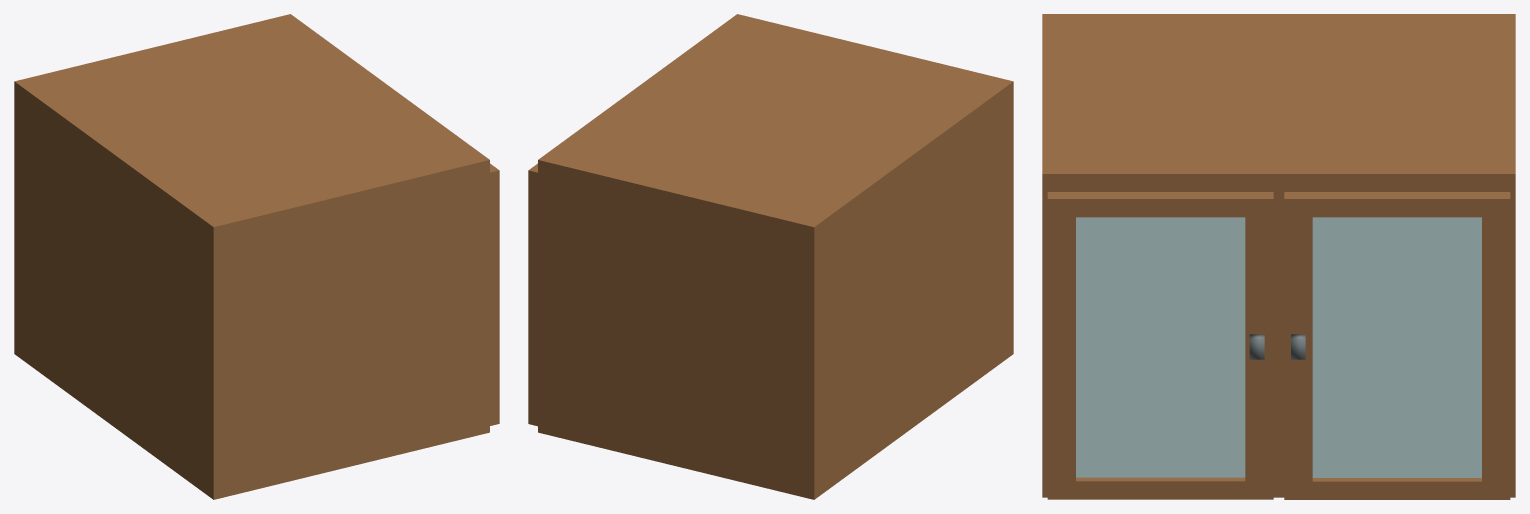
File: Cabinet.fbx
3 views of the same model, side by side, from view 1: azimuth 30°, elevation 25°; view 2: azimuth 150°, elevation 25°; view 3: azimuth 270°, elevation 25° (orthographic). The views are drawn at different scales.
Visible parts, largest first — view 1: Cube.209; view 2: Cube.209; view 3: Cube.209.
Part boxes in pixels (left/top/right/bottom): Cube.209: left=14, top=14, right=499, bottom=499; Cube.209: left=528, top=14, right=1013, bottom=499; Cube.209: left=1042, top=14, right=1515, bottom=499.
Bounding box in the file's own units: 221 × 194 × 257.
